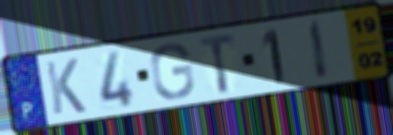1: (260, 27, 287, 85)
4: (97, 50, 137, 110)
G: (148, 41, 197, 101)
I: (307, 17, 331, 82)
K: (42, 56, 89, 117)
T: (196, 31, 238, 96)
